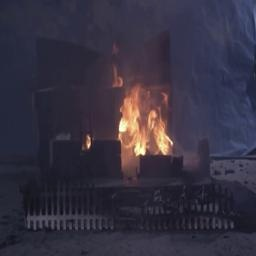fire: (107, 72, 179, 166)
